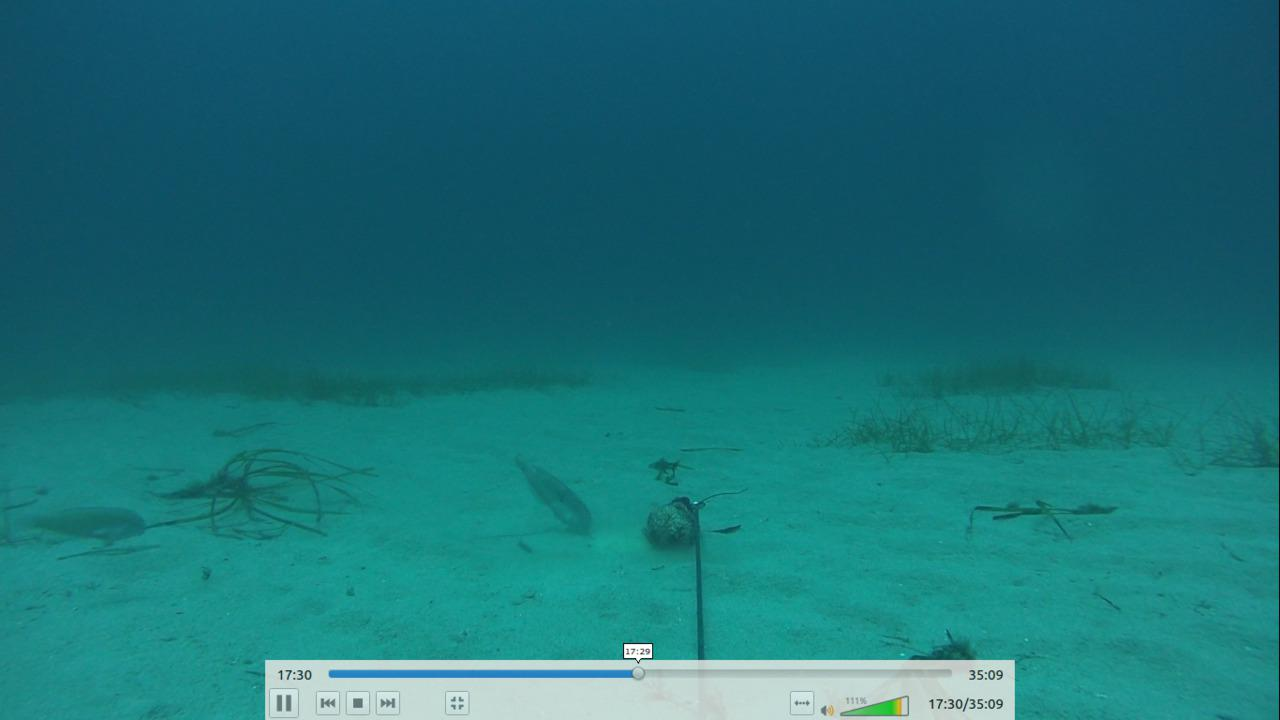raor: (494, 443, 593, 536), (13, 501, 149, 550)
